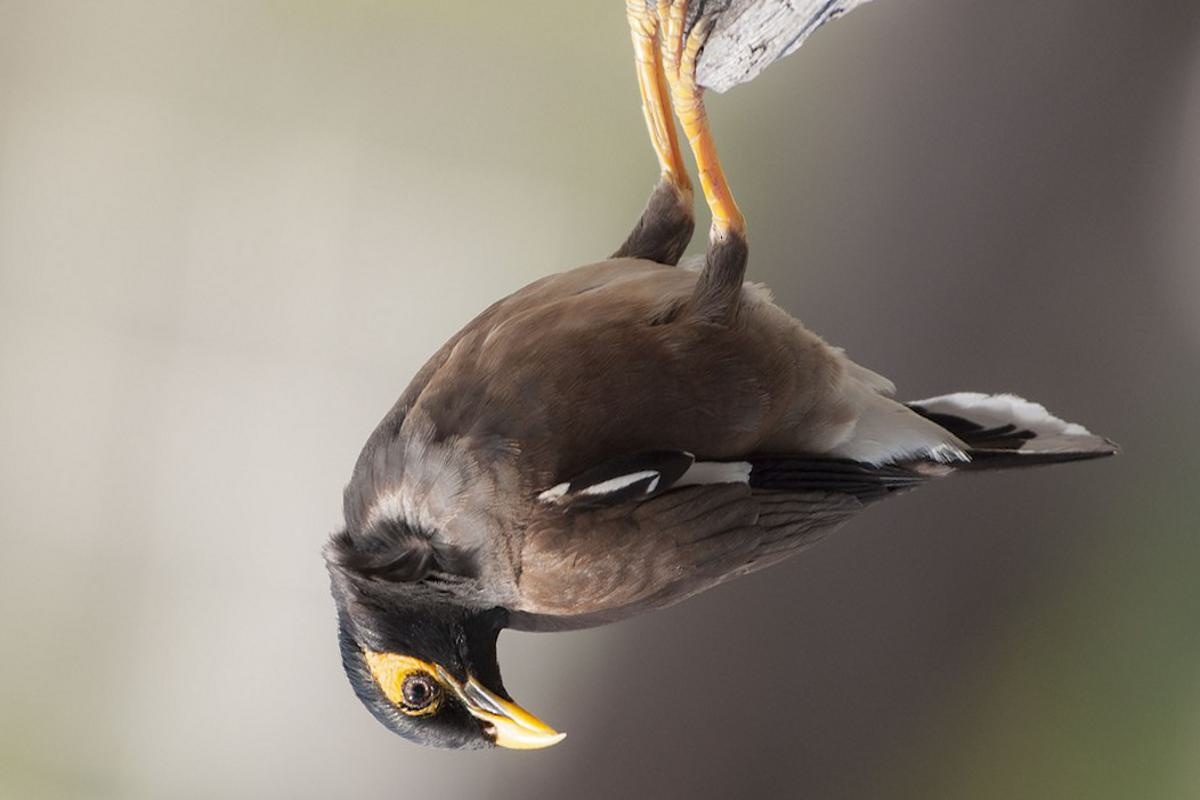myna: (333, 106, 1010, 763)
